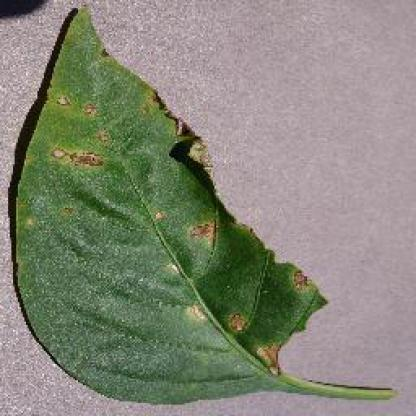bad leaf: (27, 110, 271, 348), (23, 6, 238, 260), (41, 236, 336, 414)
